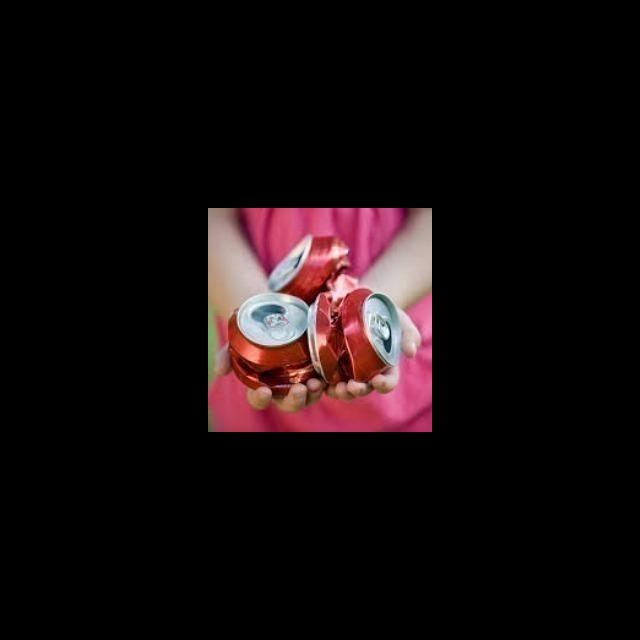metal: (220, 290, 320, 397), (308, 283, 404, 387), (261, 232, 358, 298)
